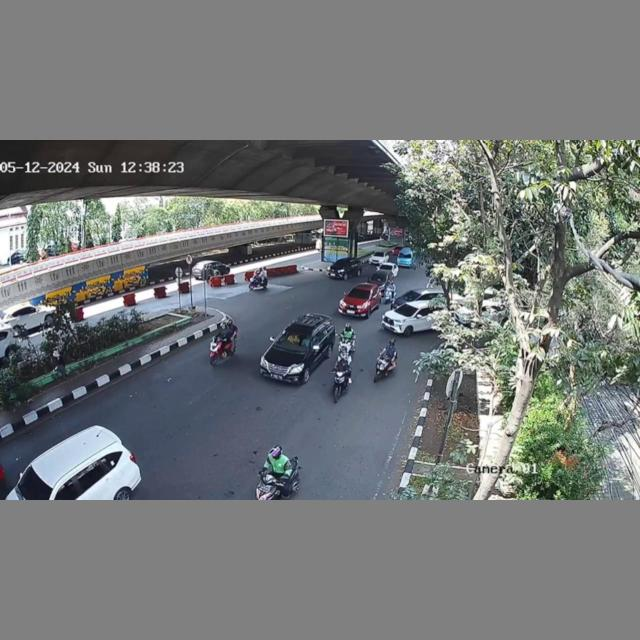windshield: (272, 330, 312, 349), (345, 288, 370, 300)
